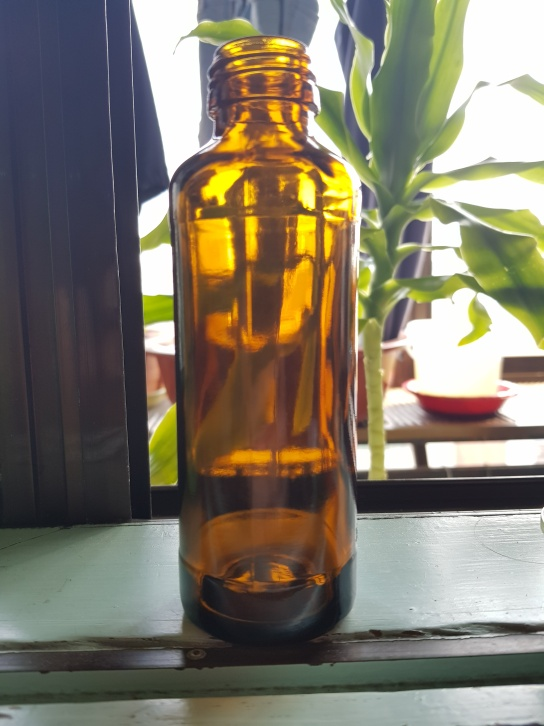Glass: (174, 36, 358, 639)
